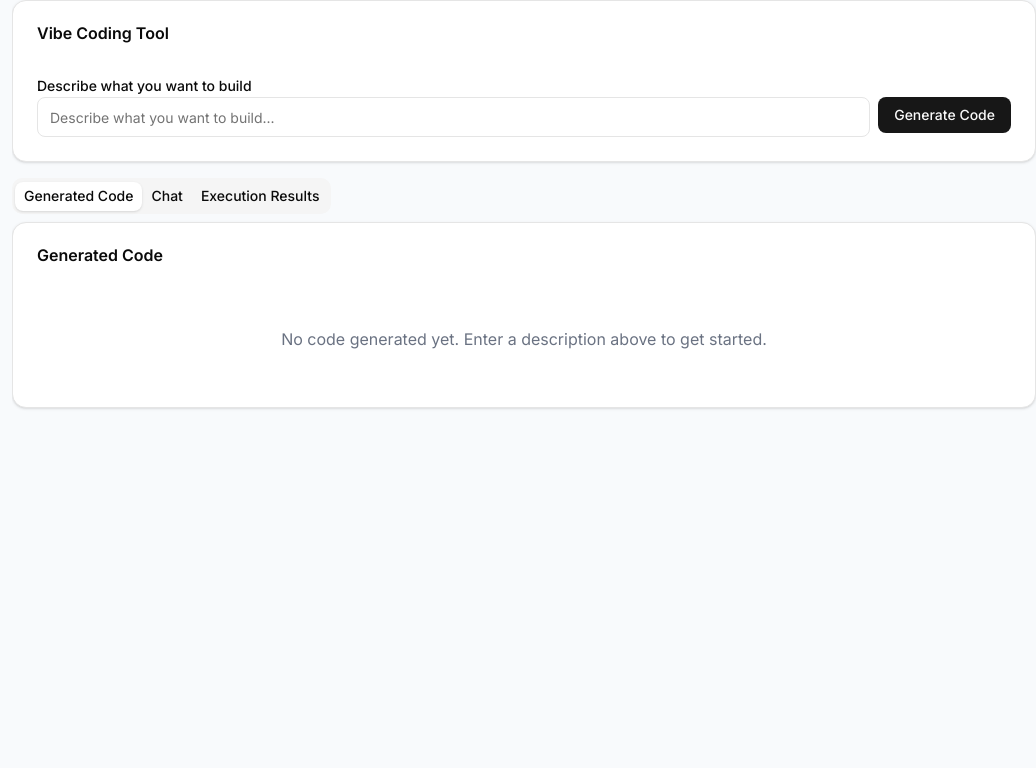
VibeCodingTool › Code Generation › should show code quality metrics
The width and height of the screenshot is (1036, 768).
Type "Create a test function" into the field with placeholder "Describe what you want to build...". click: [454, 117]
box: [37, 97, 870, 137]
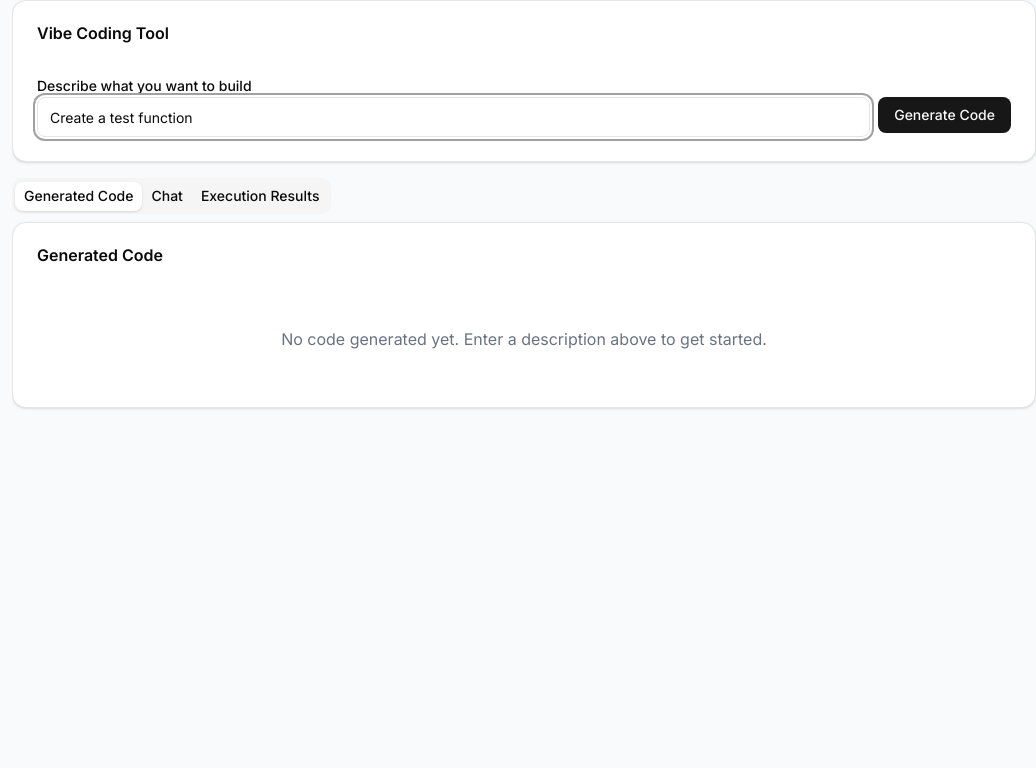
Click the button "Generate Code". click: [945, 115]
box: [878, 97, 1011, 133]
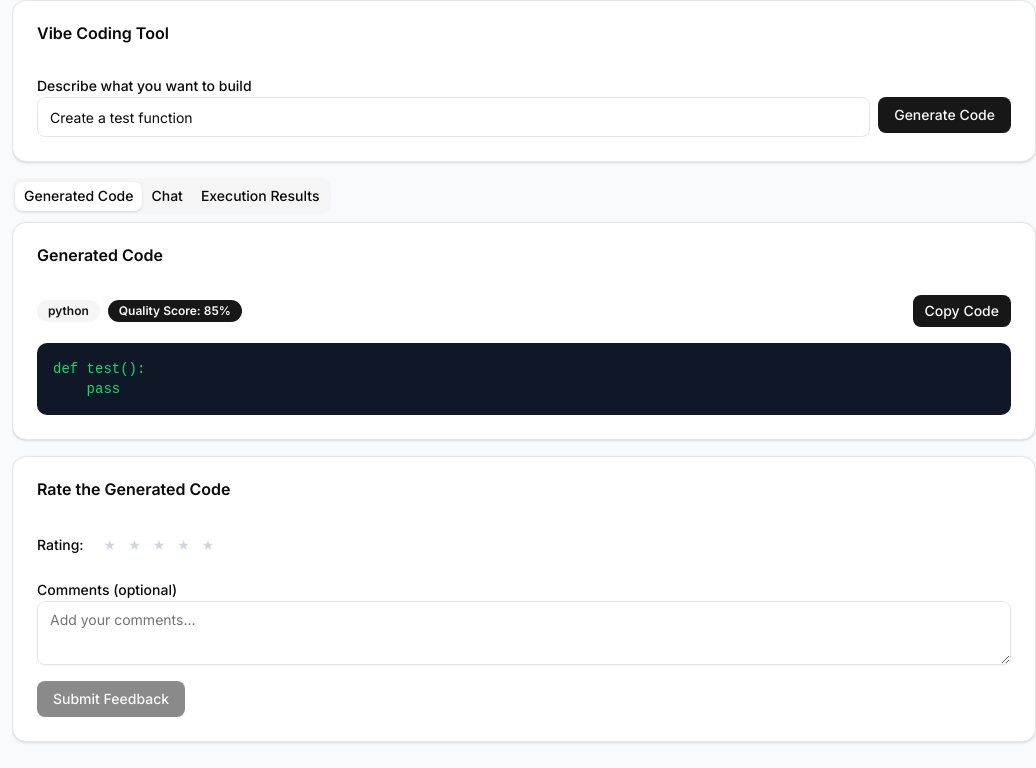
Check: the text "Quality Score: 85%" is shown, box [108, 300, 242, 322]
